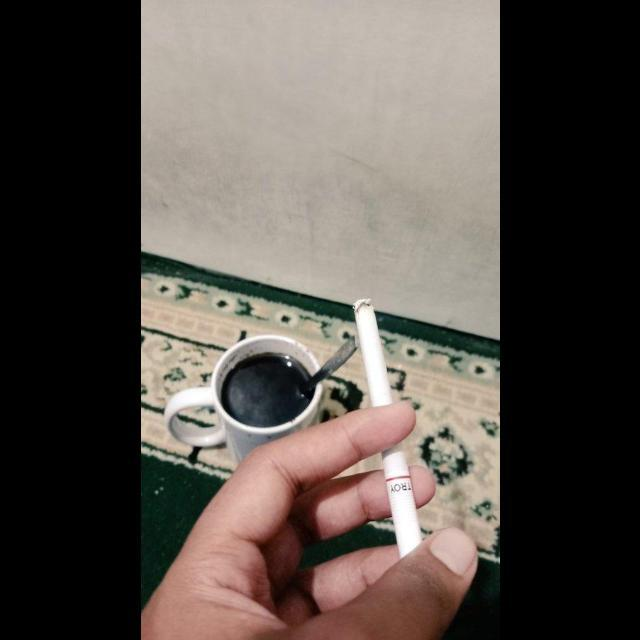rokok: (348, 291, 429, 563)
